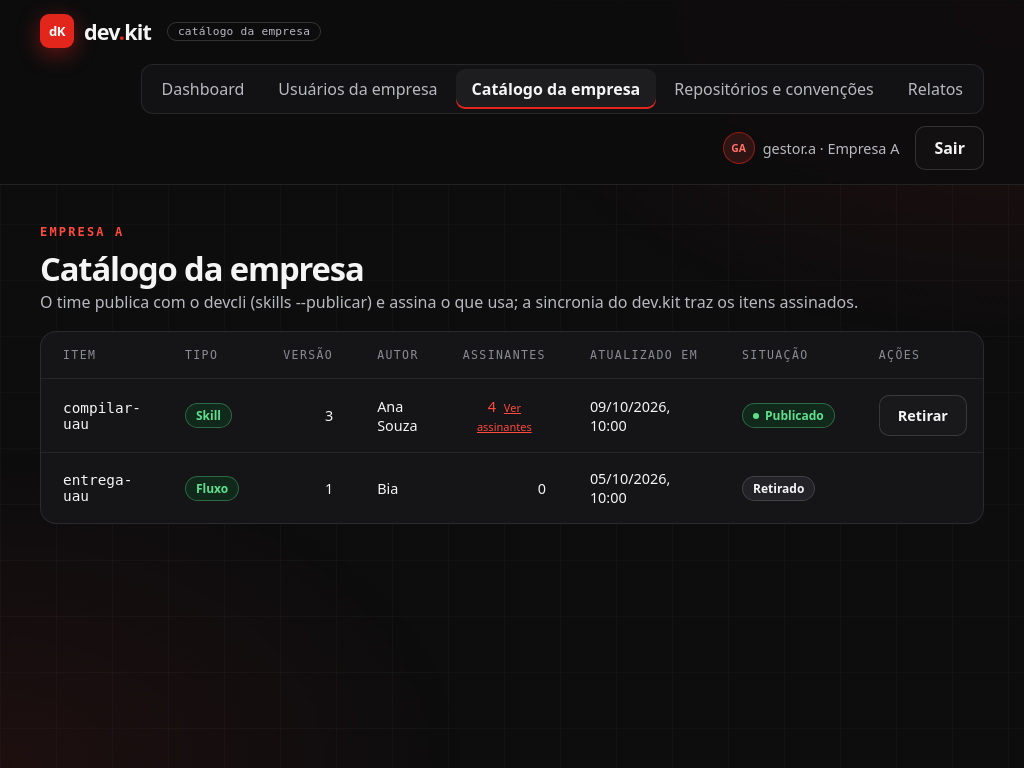
Catálogo da empresa (US #425) › o gestor vê os itens, a versão, o autor e os assinantes, e retira o publicado
The width and height of the screenshot is (1024, 768).
Expected: the row "entrega-uau Fluxo 1 Bia 0 05/10/2026, 10:00 Retirado" is shown, [41, 453, 983, 523]
What coordinates should you click on to do the following:
click the button with aria-label "Retirar compilar-uau"
I would click on:
 (923, 416)
Its box is [879, 395, 967, 436].
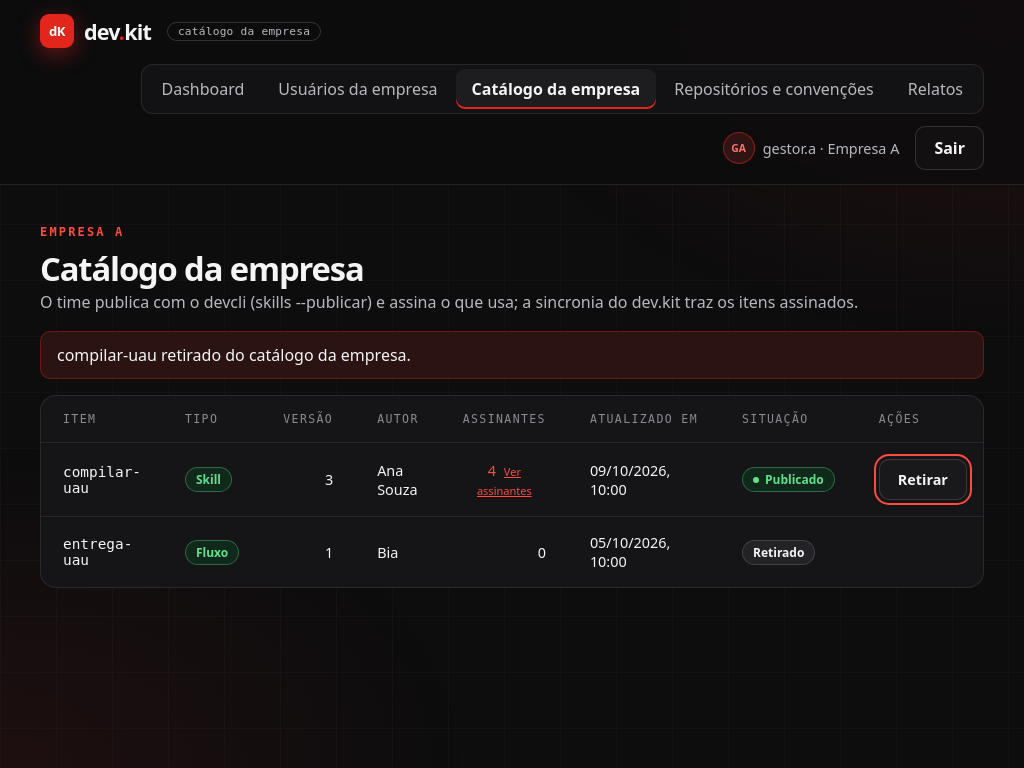
Now the message reads "compilar-uau retirado do catálogo da empresa.", box [57, 344, 411, 366]
